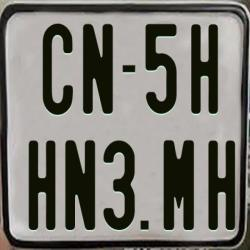3: (102, 139, 134, 230)
5: (144, 22, 178, 113)
C: (41, 22, 71, 114)
H: (191, 23, 220, 116), (28, 140, 57, 232), (208, 139, 234, 229)
M: (163, 138, 193, 229)
N: (65, 140, 96, 230), (82, 23, 112, 112)
